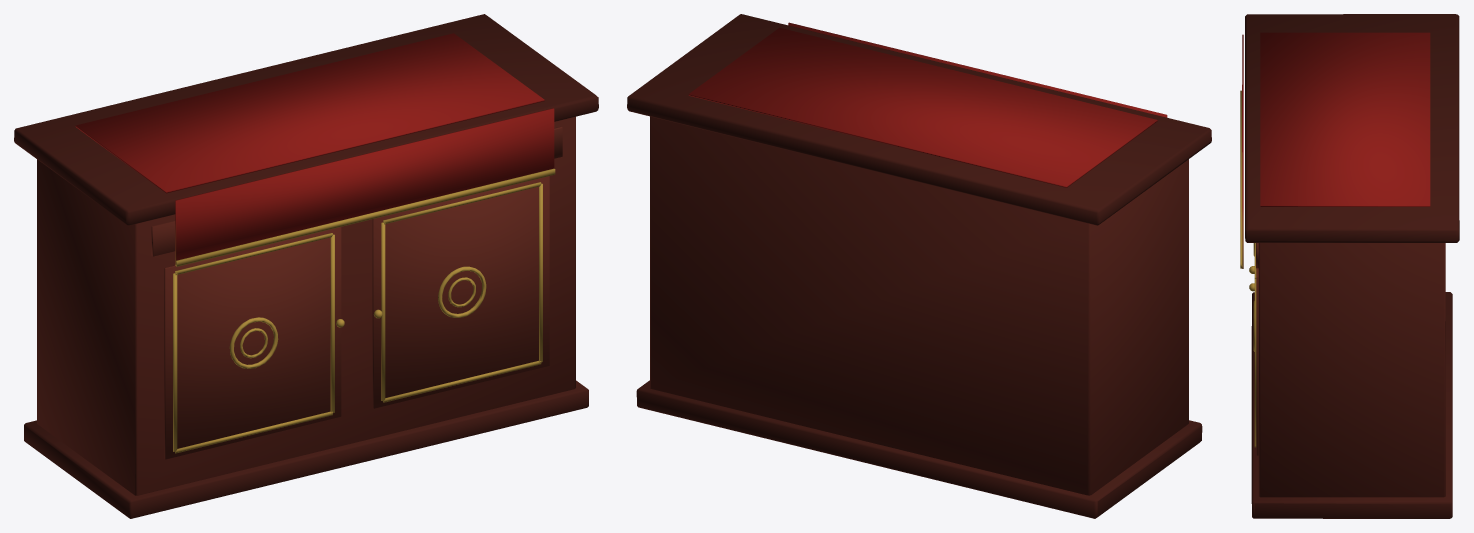
Rendered from ban_tho.glb.
The picture shows the model from 3 angles, left to right: view 1: azimuth 30°, elevation 25°; view 2: azimuth 150°, elevation 25°; view 3: azimuth 270°, elevation 25°; orthographic projection. The views are drawn at different scales.
Parts seen in each view (by area): view 1: ban_tho; view 2: ban_tho; view 3: ban_tho.
Boxes of the visible parts, left/top/right/bottom form: ban_tho: left=14, top=14, right=598, bottom=518; ban_tho: left=627, top=14, right=1211, bottom=518; ban_tho: left=1240, top=14, right=1459, bottom=518.
Size of the model in its own units: 1.5 by 0.9548 by 0.6418.
